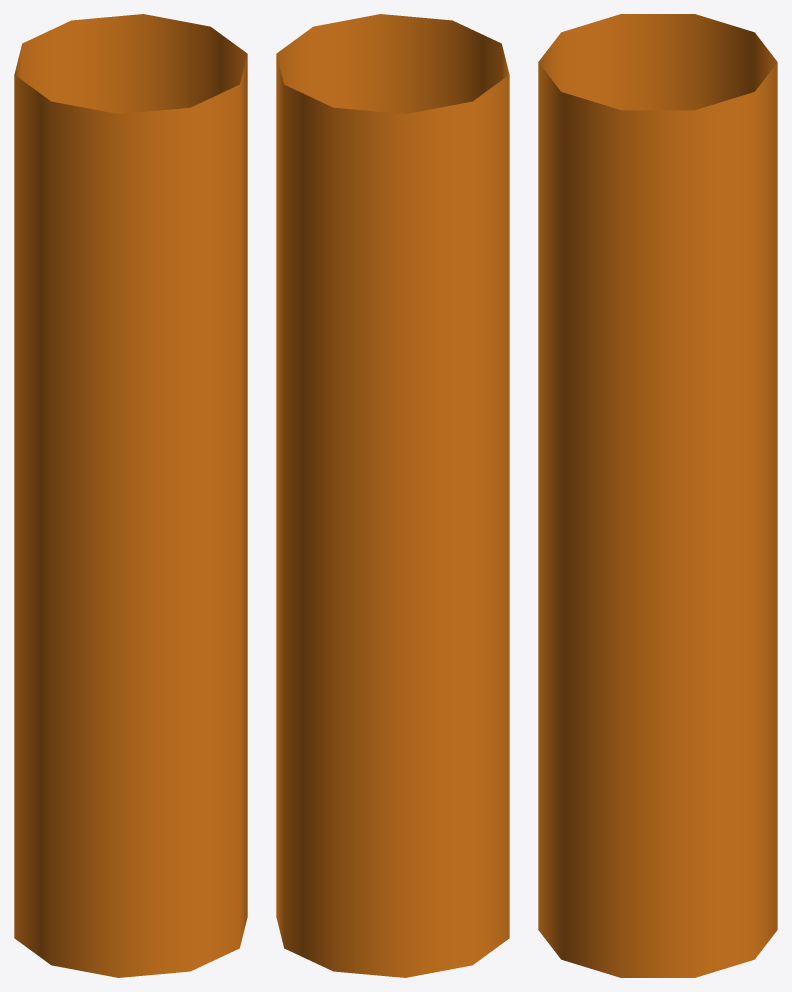
Rendered from MD_Philar_Cylindric.fbx.
The picture shows the model from 3 angles, left to right: view 1: azimuth 30°, elevation 25°; view 2: azimuth 150°, elevation 25°; view 3: azimuth 270°, elevation 25°; orthographic projection.
Visible parts, largest first — view 1: MD_Philar_Cylindric; view 2: MD_Philar_Cylindric; view 3: MD_Philar_Cylindric.
Part boxes in pixels (x1=…): MD_Philar_Cylindric: x1=14, y1=14, x2=247, y2=977; MD_Philar_Cylindric: x1=276, y1=14, x2=509, y2=977; MD_Philar_Cylindric: x1=538, y1=14, x2=777, y2=977.
Bounding box in the file's own units: 71.33 × 300 × 75.
